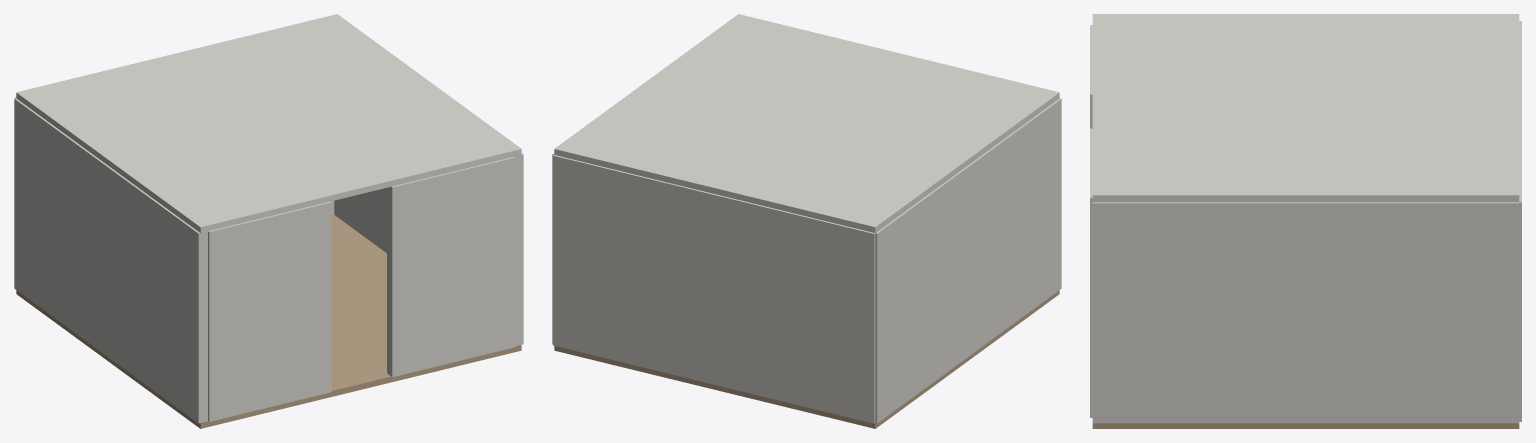
Rendered from playroom_build.glb.
The picture shows the model from 3 angles, left to right: view 1: azimuth 30°, elevation 25°; view 2: azimuth 150°, elevation 25°; view 3: azimuth 270°, elevation 25°; orthographic projection. The views are drawn at different scales.
Visible parts, largest first — view 1: Ceiling, Wall_W, Wall_S_97, Wall_S_0, Floor, Wall_E; view 2: Wall_N, Ceiling, Wall_W, Floor; view 3: Wall_E, Ceiling, Floor, Wall_N, Wall_S_97.
Boxes of the visible parts, x1,y1,x2,y2 form: Ceiling: (16, 14, 521, 233); Wall_W: (14, 98, 207, 423); Wall_S_97: (387, 157, 515, 377); Wall_S_0: (208, 201, 331, 421); Floor: (16, 215, 521, 428); Wall_E: (334, 153, 523, 345); Wall_N: (553, 155, 875, 423); Ceiling: (554, 14, 1059, 233); Wall_W: (875, 98, 1061, 423); Floor: (554, 290, 1059, 428); Wall_E: (1092, 202, 1519, 423); Ceiling: (1092, 14, 1519, 202); Floor: (1092, 423, 1519, 428); Wall_N: (1519, 21, 1521, 421); Wall_S_97: (1090, 128, 1092, 417).
Bounding box in the file's own units: 4.37 × 2.59 × 4.34.
